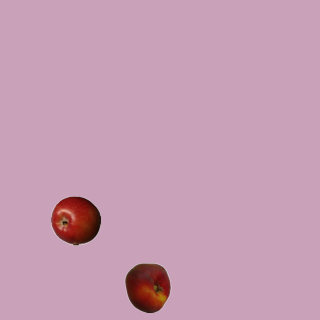Apple Braeburn: (50, 195, 100, 245)
Nectarine Flat: (122, 262, 172, 312)
